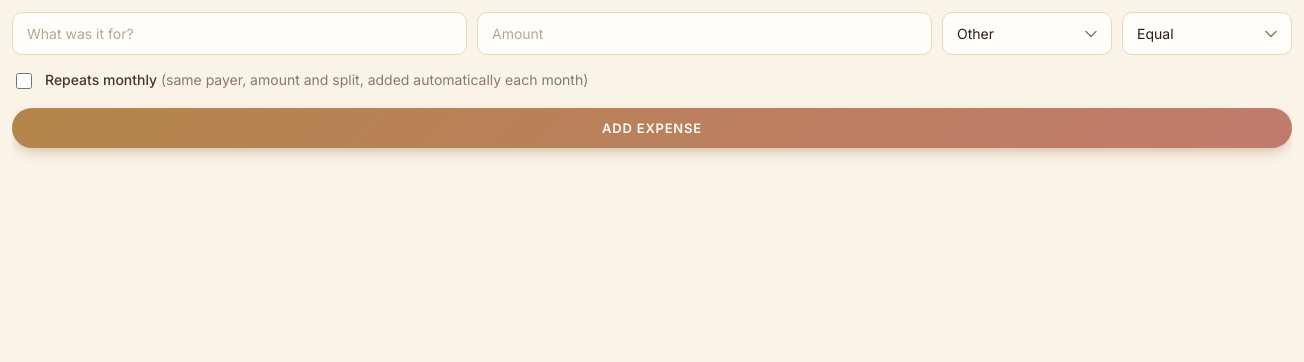
Test: AddExpenseForm — SHARES preview line › shows a prompt until there is an amount, then what each person pays, updating as shares change
Select "Shares" in the dropdown named "Split type" at (1207, 34), box [1122,12,1292,55]
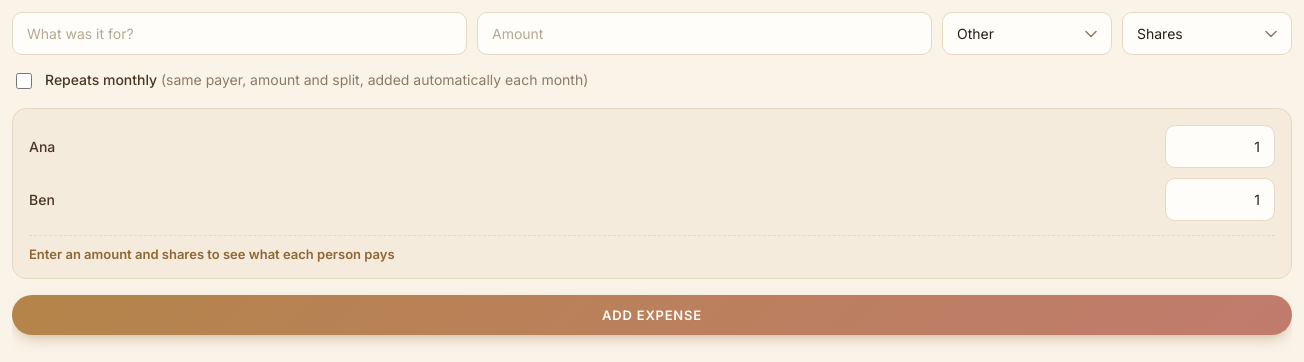
Expected: the text "Enter an amount and shares to see what each person pays" is shown, [29,235,1275,262]
Type "75" into the number field with placeholder "Amount".
click(704, 34); type("75")  # box [477,12,932,55]
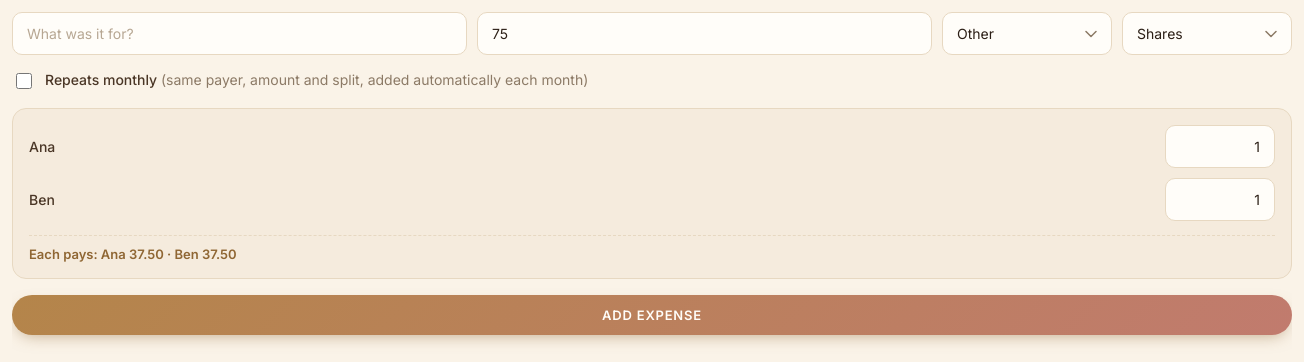
Expected: the text "Each pays: Ana 37.50 · Ben 37.50" is shown, [29,235,1275,262]
Replace the text in the 3rd number field with placeholder "Shares" with "2" at (1220, 200), box [1165,178,1275,221]
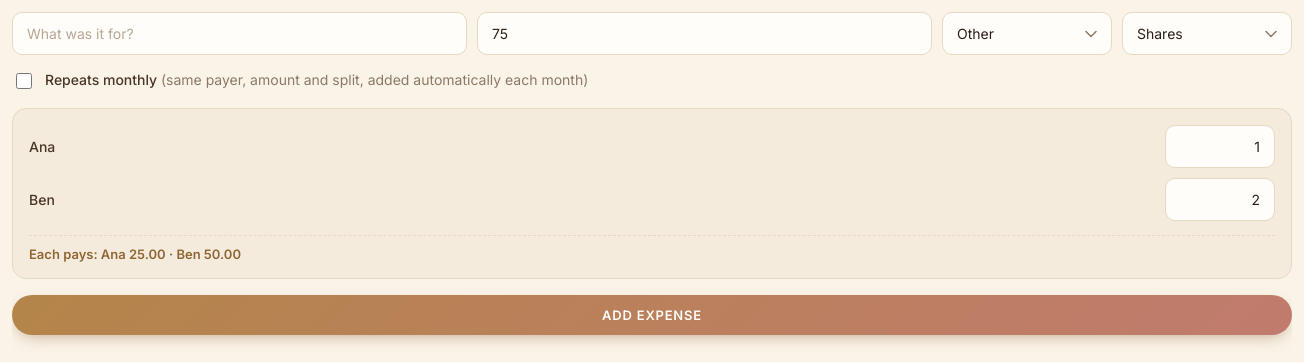
Expected: the text "Each pays: Ana 25.00 · Ben 50.00" is shown, [29,235,1275,262]
Expected: the text "Each pays: Ana 37.50 · Ben 37.50" is gone
